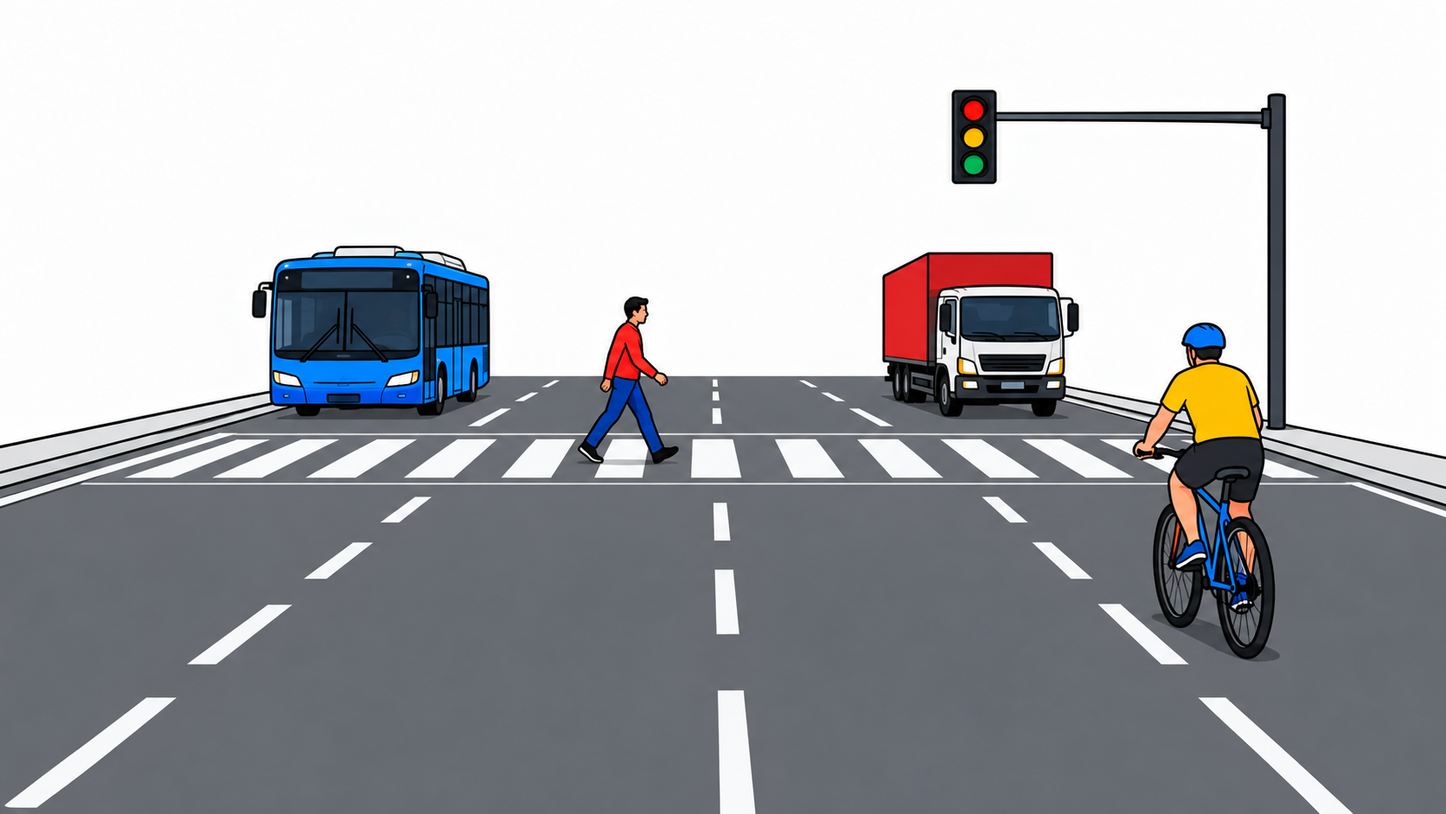bicycle: (1129, 452, 1277, 660)
bus: (250, 246, 494, 416)
person: (1130, 322, 1266, 622), (576, 297, 680, 464)
traffic_light: (951, 88, 997, 185)
truck: (880, 252, 1080, 417)
zebra_crossing: (0, 429, 1079, 490)
